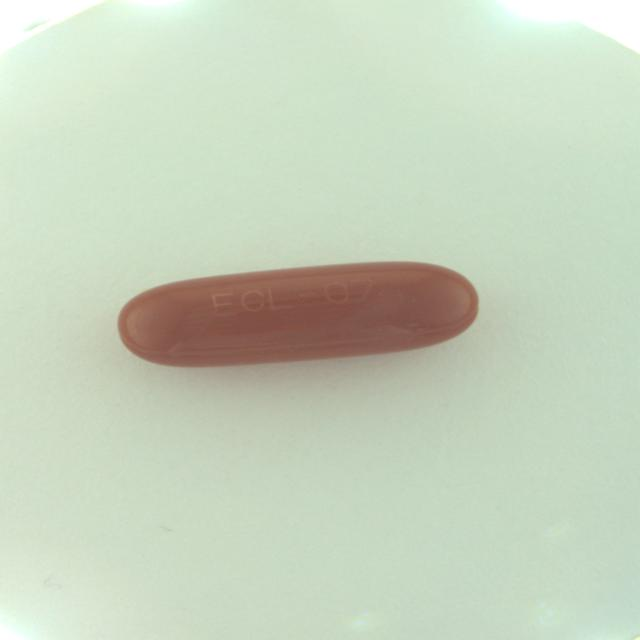Oval: (115, 259, 482, 367)
